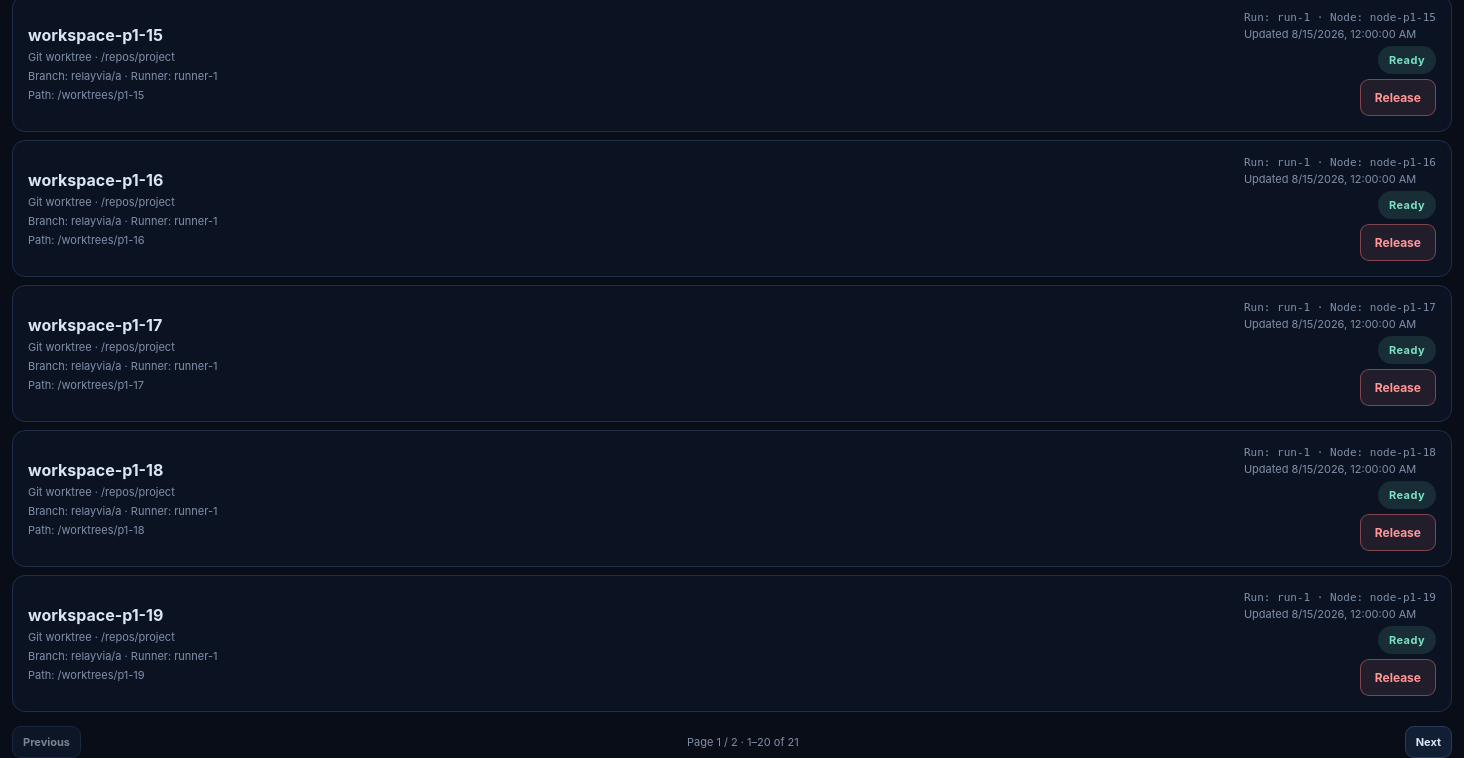
Test case: WorkspaceListPage › loads the next page through the API offset
(page scrolled)
Expected: the text "workspace-p2-0" is not shown
Click the button "Next": point(1428, 742) [1405, 726, 1452, 757]
(page scrolled)
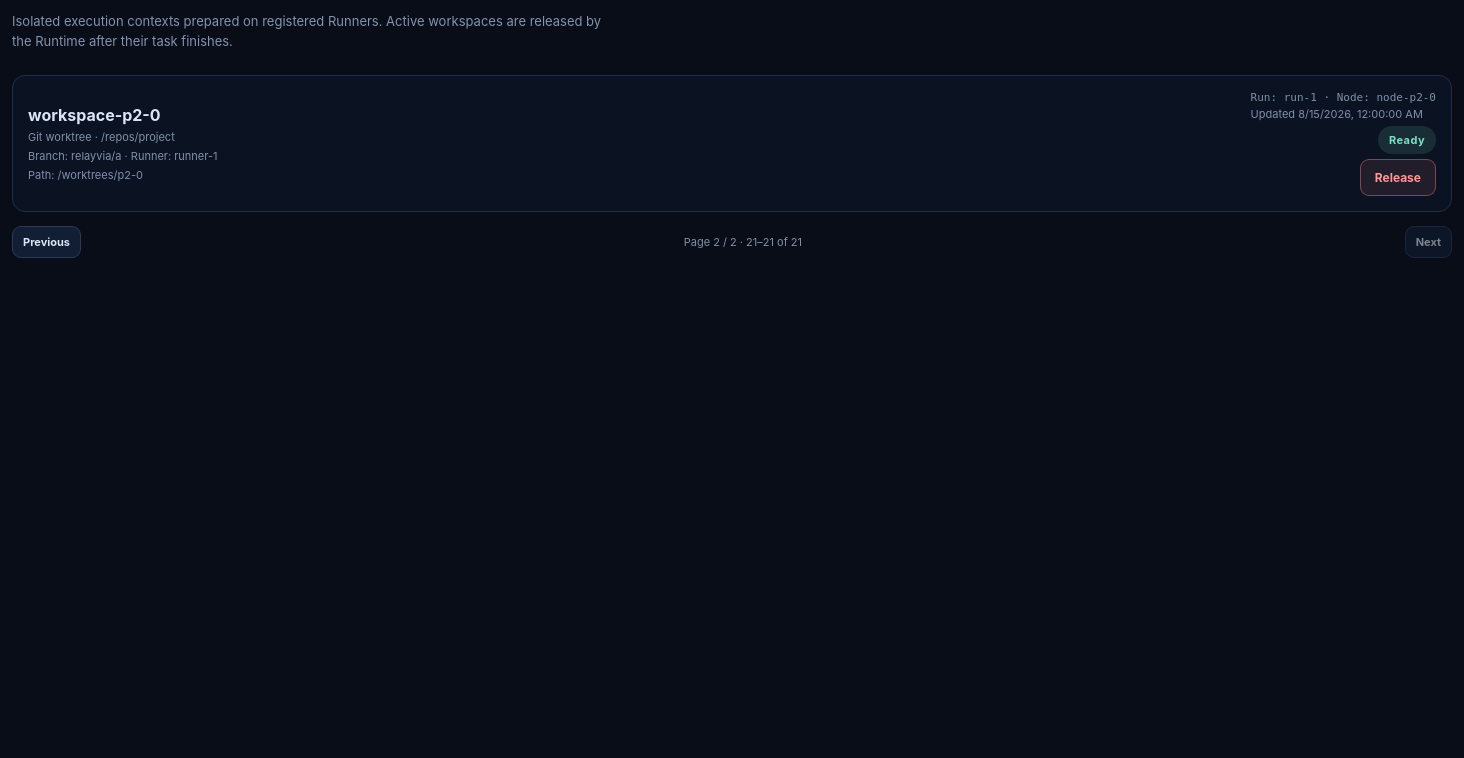
Now the text "workspace-p2-0" is shown, box [28, 105, 161, 125]
